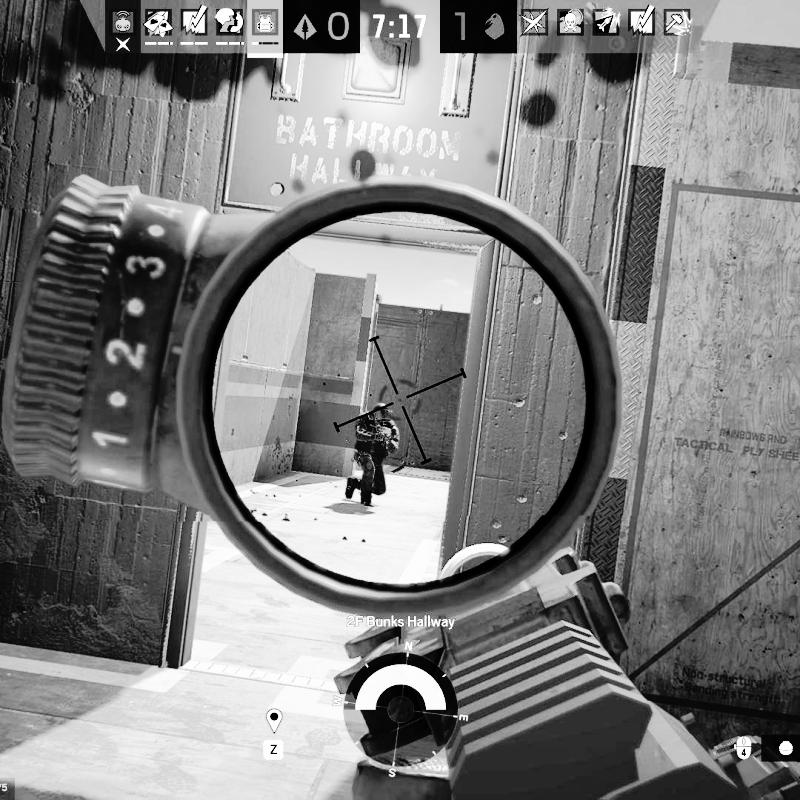Character: (344, 402, 400, 508)
Head: (371, 402, 390, 423)
